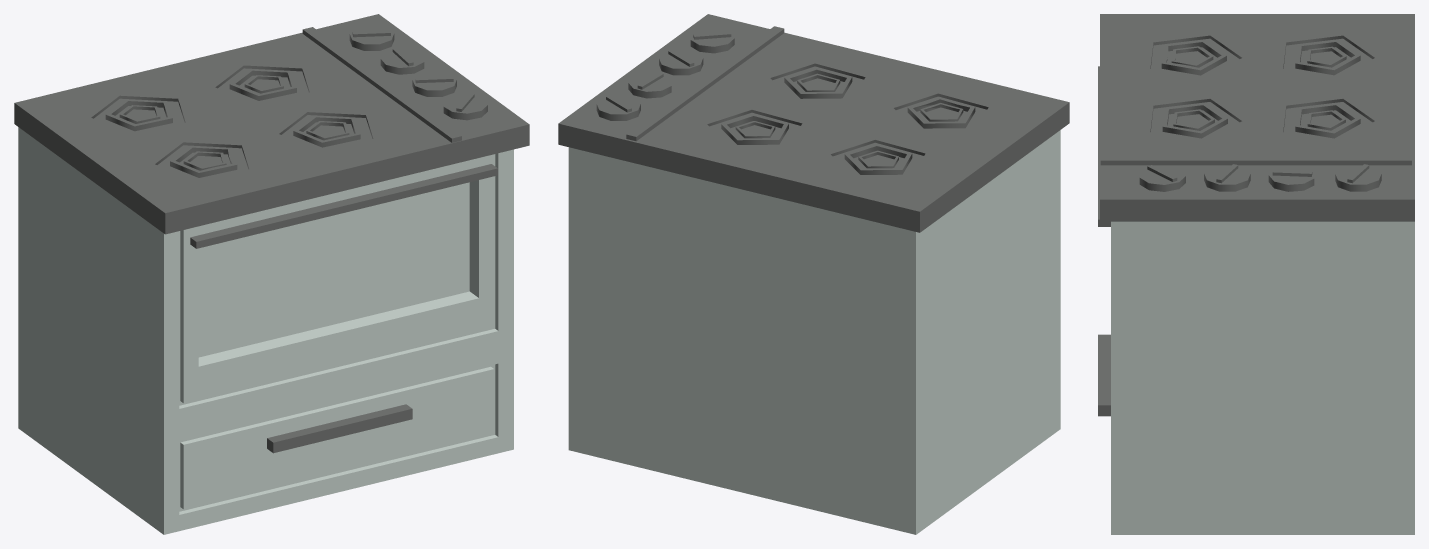
The model's file is Cocina_Estufa_06.fbx.
3 views of the same model, side by side, from view 1: azimuth 30°, elevation 25°; view 2: azimuth 150°, elevation 25°; view 3: azimuth 270°, elevation 25° (orthographic). The views are drawn at different scales.
Parts seen in each view (by area): view 1: HORNO.001; view 2: HORNO.001; view 3: HORNO.001.
Part boxes in pixels (x1,y1,x2,y2): HORNO.001: (14,14,529,534); HORNO.001: (558,14,1069,534); HORNO.001: (1098,14,1414,534).
Bounding box in the file's own units: 88.58 × 78.11 × 63.92.
2 materials, 2 textured.
